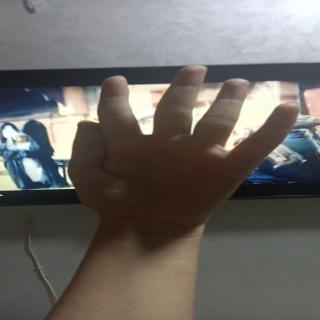SHEEN: (66, 62, 304, 219)
